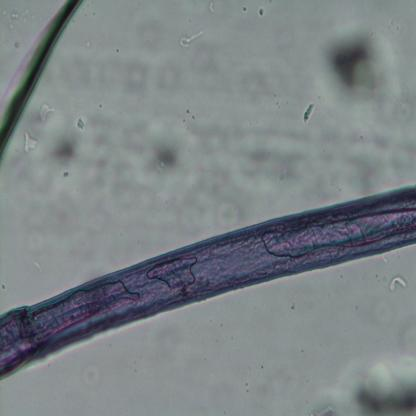Air bubble: (0, 0, 84, 163)
Background material: (324, 25, 401, 112), (311, 354, 416, 415), (230, 132, 304, 195), (183, 166, 244, 231), (142, 124, 190, 181), (342, 140, 384, 200), (120, 54, 149, 87), (52, 137, 77, 162), (181, 30, 207, 51), (388, 275, 411, 294), (20, 130, 38, 153), (299, 100, 317, 121), (38, 103, 56, 121), (207, 1, 216, 16), (256, 6, 267, 18)
Cotton: (0, 180, 416, 382)
